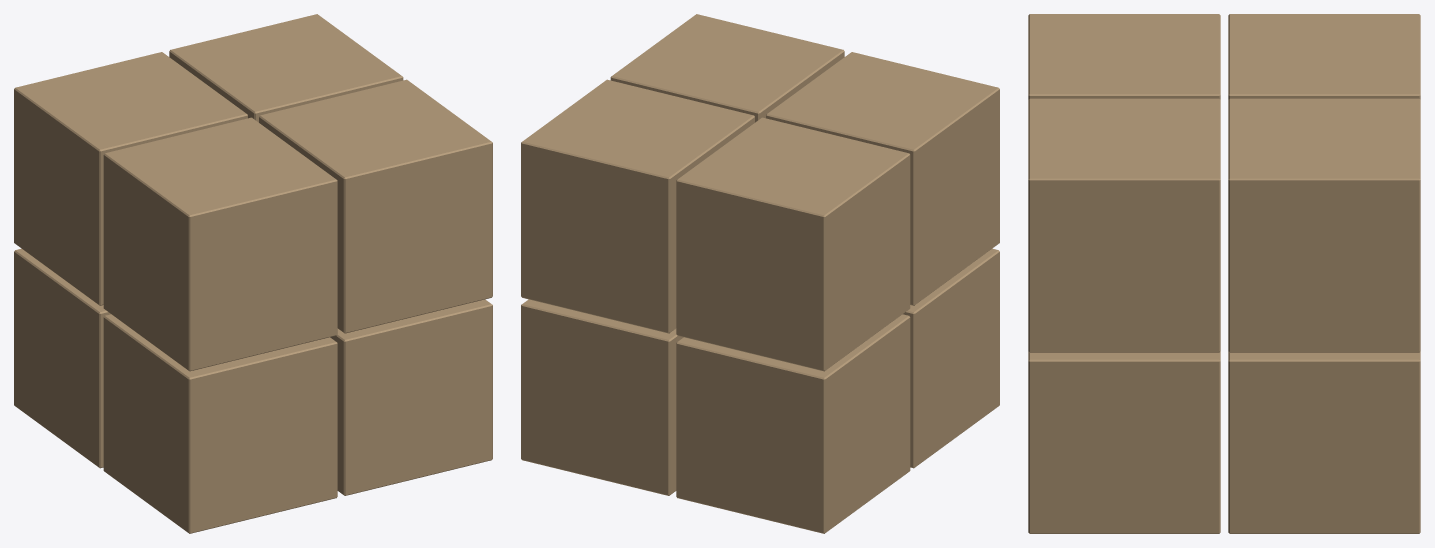
File: covers_caisses_quai.glb
The picture shows the model from 3 angles, left to right: view 1: azimuth 30°, elevation 25°; view 2: azimuth 150°, elevation 25°; view 3: azimuth 270°, elevation 25°; orthographic projection. The views are drawn at different scales.
Visible parts, largest first — view 1: covers_caisses_quai; view 2: covers_caisses_quai; view 3: covers_caisses_quai.
Boxes of the visible parts, left/top/right/bottom form: covers_caisses_quai: left=14, top=14, right=492, bottom=533; covers_caisses_quai: left=521, top=14, right=999, bottom=533; covers_caisses_quai: left=1028, top=14, right=1420, bottom=533.
Size of the model in its own units: 2 by 2 by 2.
